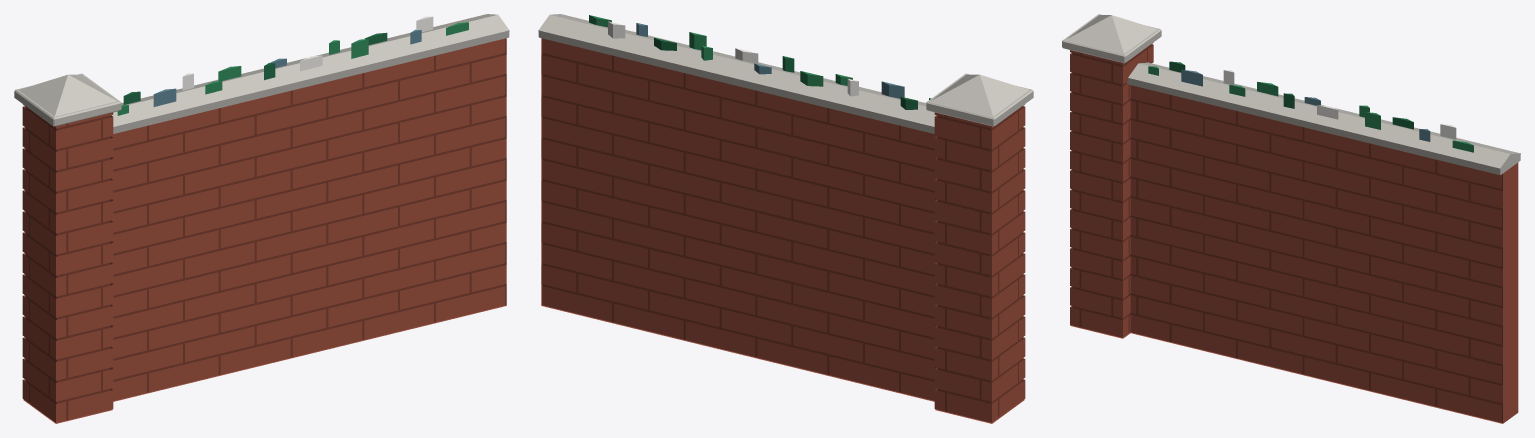
File: SC_Bld_Villa_Fence_Wall_3m_Glass.gltf
3 renders of one model, left to right at view 1: azimuth 30°, elevation 25°; view 2: azimuth 150°, elevation 25°; view 3: azimuth 330°, elevation 25°, orthographic. The views are drawn at different scales.
Visible parts, largest first — view 1: SC_Bld_Villa_Fence_Wall_3m_Glass; view 2: SC_Bld_Villa_Fence_Wall_3m_Glass; view 3: SC_Bld_Villa_Fence_Wall_3m_Glass.
Part boxes in pixels (x1=…): SC_Bld_Villa_Fence_Wall_3m_Glass: x1=14, y1=14, x2=509, y2=423; SC_Bld_Villa_Fence_Wall_3m_Glass: x1=538, y1=14, x2=1033, y2=423; SC_Bld_Villa_Fence_Wall_3m_Glass: x1=1062, y1=14, x2=1520, y2=423.
Size of the model in its own units: 3.24 by 2.2 by 0.48.
1 material, 1 textured.
